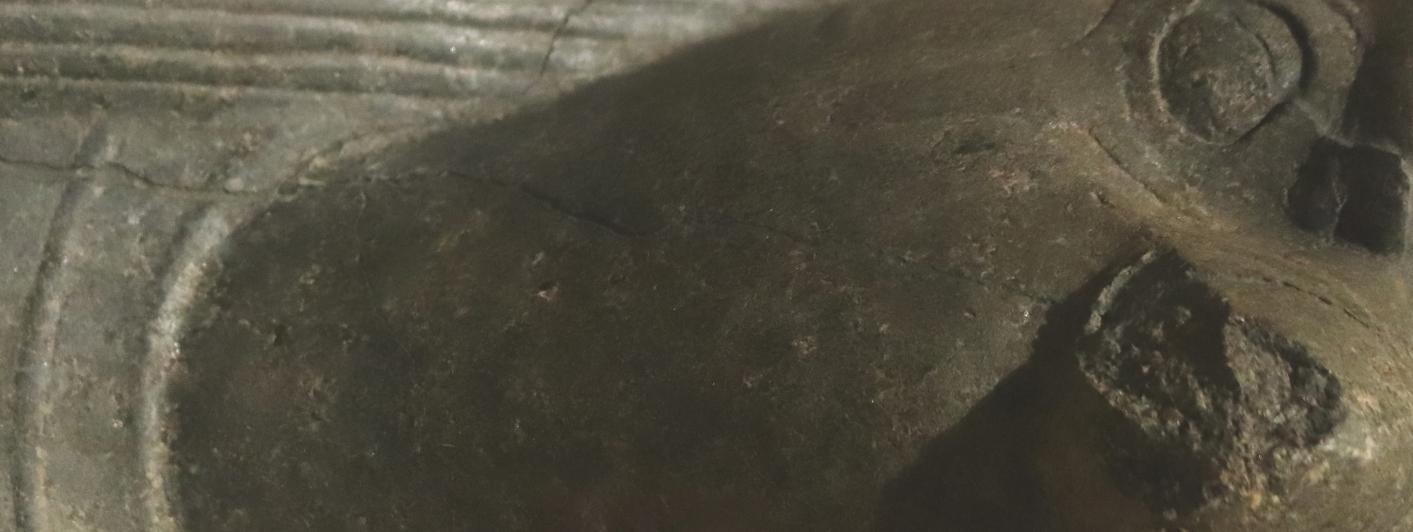Ra_Horakhty: (0, 0, 836, 532)
